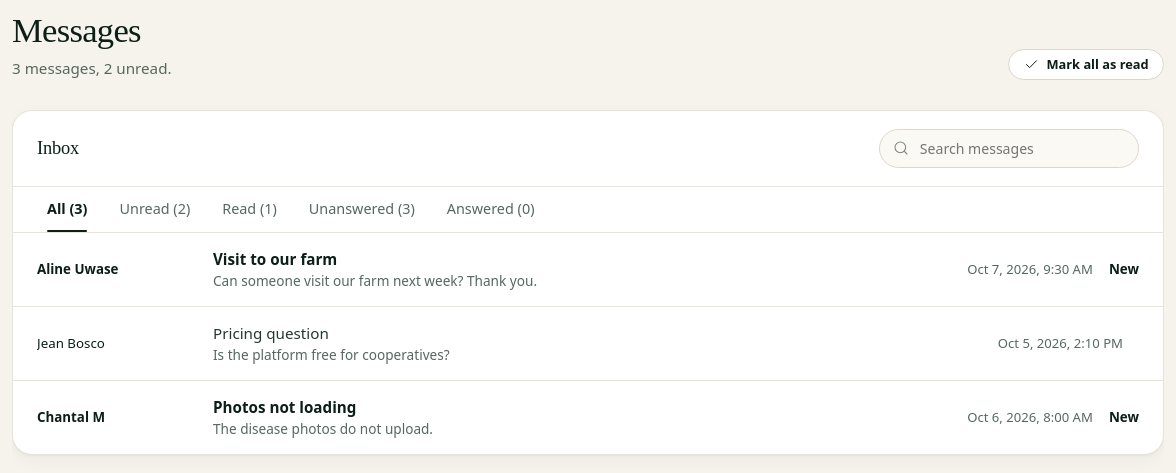
Test case: Messages page › filters with tabs that show their counts
Check: the text "Visit to our farm" is shown, box left=213, top=249, right=337, bottom=269
Click the tab "Unread (2)" at (155, 209), box left=106, top=187, right=204, bottom=232
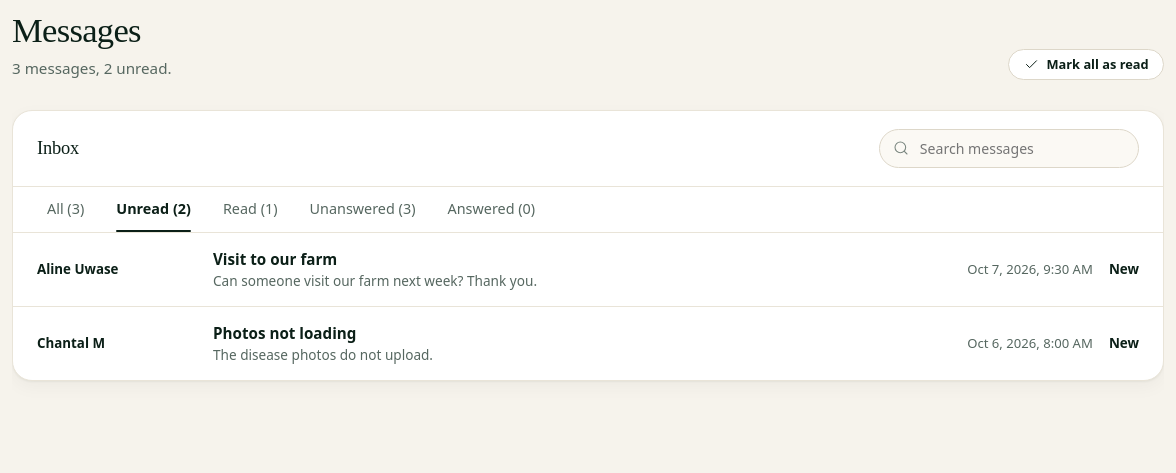
Check: the text "Photos not loading" is shown, box left=213, top=323, right=356, bottom=343
Check: the button "Pricing question" is gone
Click the tab "Read (1)" at (250, 209), box left=209, top=187, right=292, bottom=232
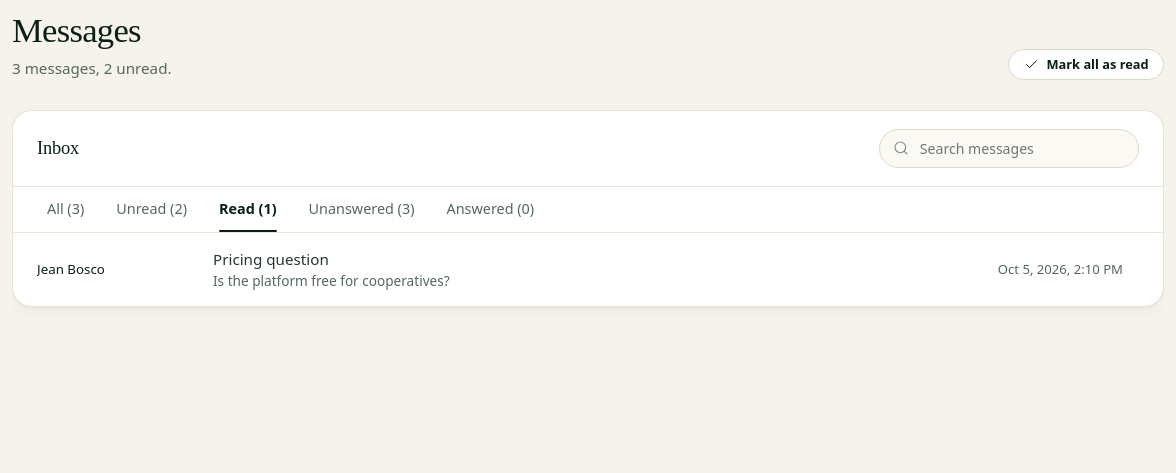
Check: the text "Pricing question" is shown, box left=213, top=249, right=329, bottom=269
Check: the button "Photos not loading" is gone
